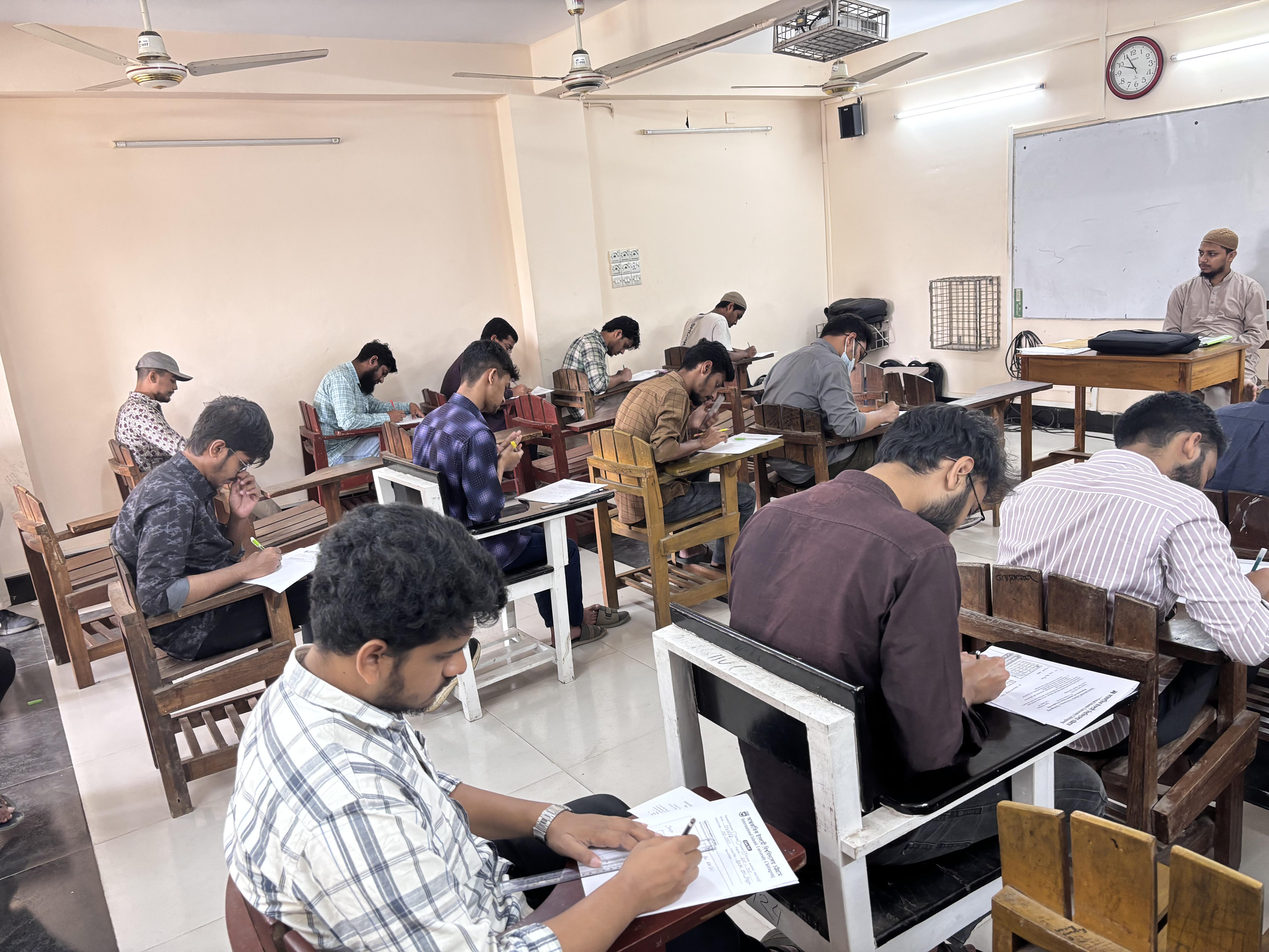invigilator: (1144, 219, 1269, 408)
no_cheating: (233, 508, 793, 952), (709, 424, 1130, 850), (1006, 406, 1269, 678), (148, 404, 314, 656), (418, 346, 579, 560), (602, 354, 770, 544), (760, 315, 936, 476), (102, 338, 232, 499), (290, 329, 423, 484), (565, 297, 667, 409), (448, 305, 555, 408), (676, 279, 776, 375)
